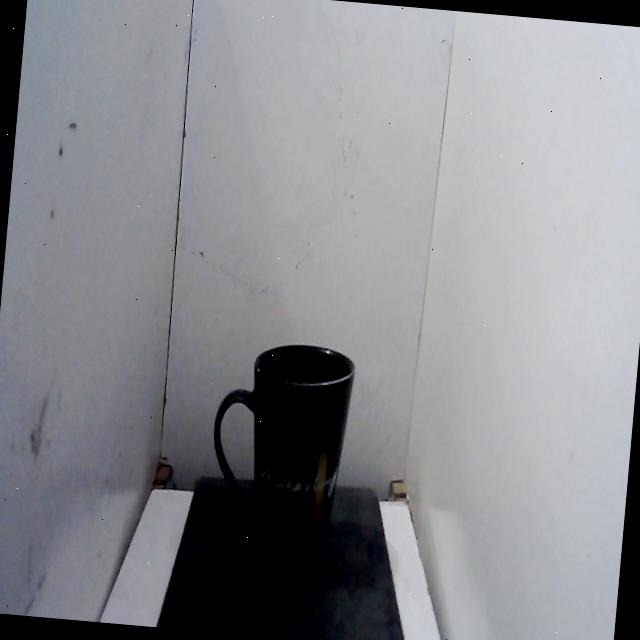vidro: (197, 328, 364, 590)
